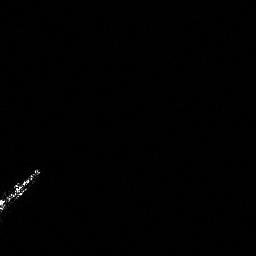ship: (1, 165, 44, 218)
